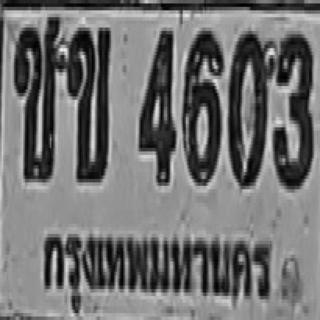A02: (65, 24, 110, 179)
A10: (12, 12, 61, 177)
N00: (228, 28, 270, 186)
N03: (272, 31, 312, 186)
N04: (137, 28, 175, 182)
N06: (181, 28, 222, 182)
P04: (37, 221, 278, 310)
